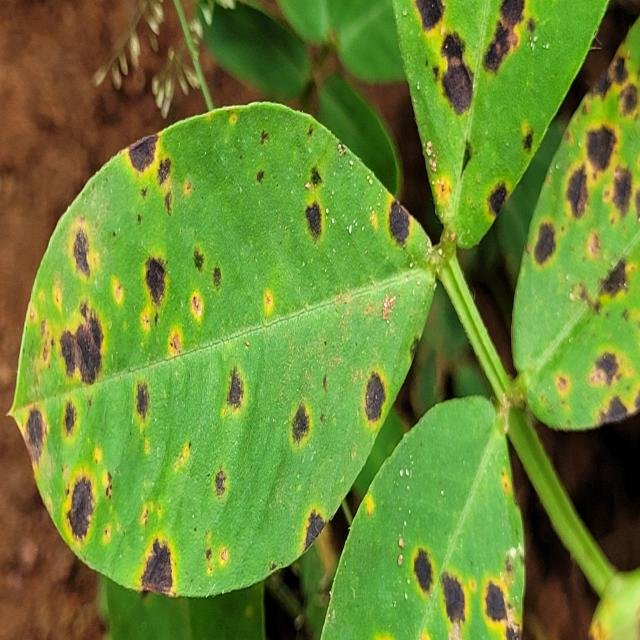Ground nut_tikka leaf spot: (11, 98, 438, 600), (511, 18, 640, 434)
